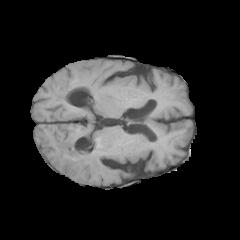glioma: (48, 79, 99, 177)
